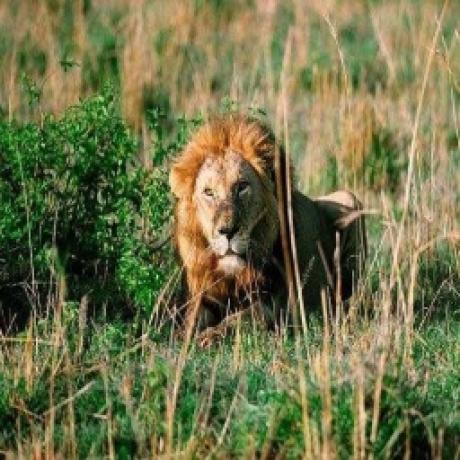Lion: (169, 112, 369, 336)
